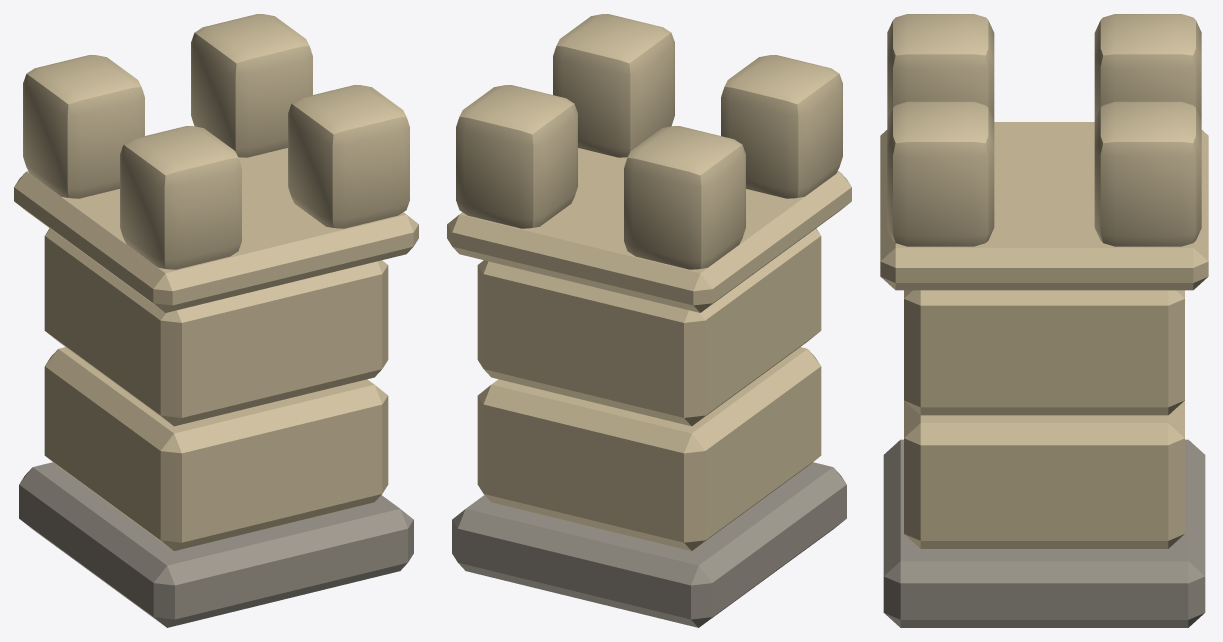
The model's file is WallCorner.fbx.
The picture shows the model from 3 angles, left to right: view 1: azimuth 30°, elevation 25°; view 2: azimuth 150°, elevation 25°; view 3: azimuth 270°, elevation 25°; orthographic projection. The views are drawn at different scales.
Parts seen in each view (by area): view 1: WallCorner; view 2: WallCorner; view 3: WallCorner.
Part boxes in pixels (<box>): WallCorner: <box>14,14,418,627</box>; WallCorner: <box>447,14,851,627</box>; WallCorner: <box>880,14,1208,627</box>.
Size of the model in its own units: 0.98 by 1.63 by 0.98.
